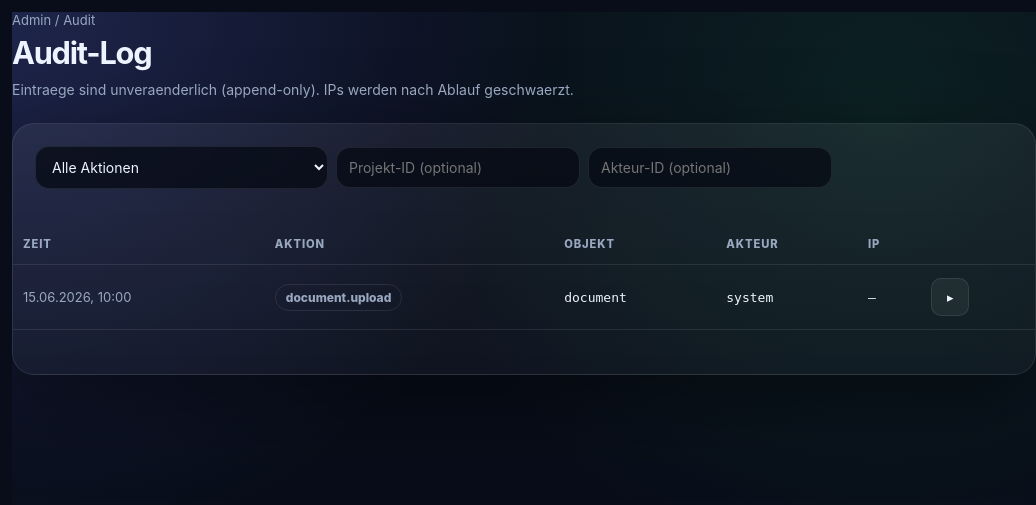
Test case: AuditLogsPage Metadaten (A3) › zeigt JSON-Metadaten beim Aufklappen
Click the button named "Details anzeigen". click: coordinates (950, 298)
box: x1=931 y1=278 x2=969 y2=316
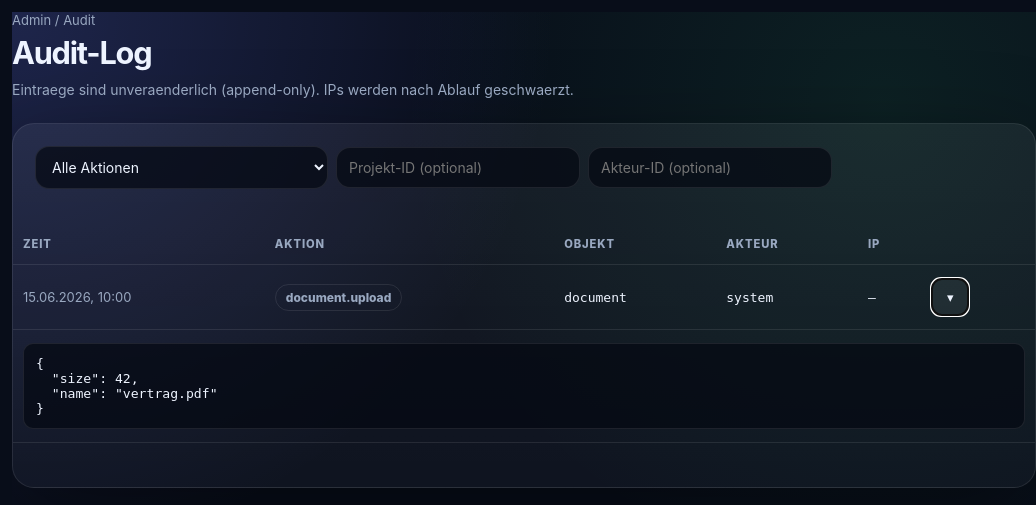
Expected: the text "{ \"size\": 42, \"name\": \"vertrag.pdf\" }" is shown, x1=23 y1=344 x2=1025 y2=430
